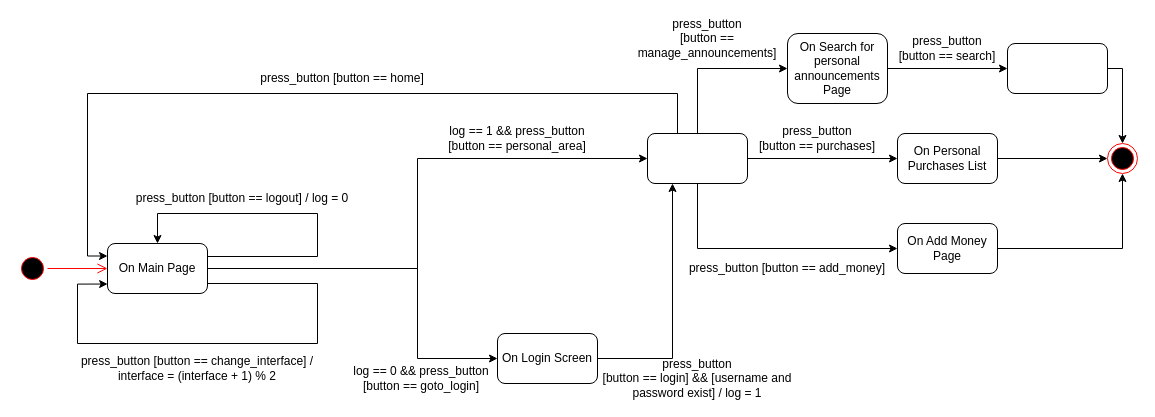
Some shapes in this 1155 by 417 pixel diagram are drawn without their labels. The shapes that lost their labels are listed below. From the top down, each one's centre as x and y in pixels, then its label:
the point at 1057,68: On Personal Announcements List
the point at 697,158: On Personal Area Page
